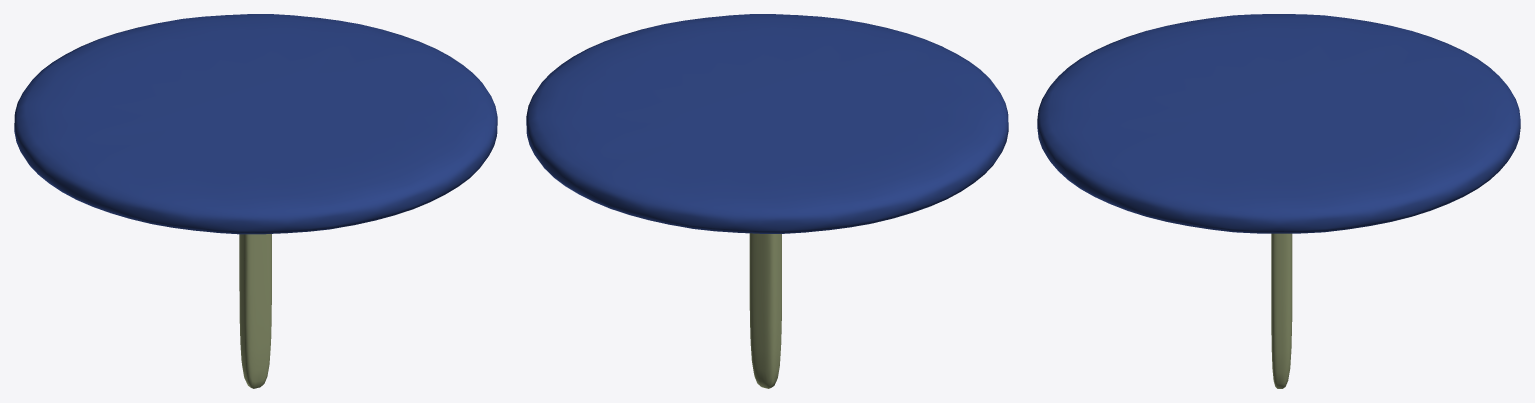
File: Mushrom 4.fbx
3 renders of one model, left to right at view 1: azimuth 30°, elevation 25°; view 2: azimuth 150°, elevation 25°; view 3: azimuth 270°, elevation 25°, orthographic.
Visible parts, largest first — view 1: Cylinder, Cube; view 2: Cylinder, Cube; view 3: Cylinder, Cube.
Boxes of the visible parts, <box> form: Cylinder: <box>14,14,497,234</box>; Cube: <box>239,234,271,388</box>; Cylinder: <box>526,14,1008,233</box>; Cube: <box>749,233,781,388</box>; Cylinder: <box>1037,14,1520,233</box>; Cube: <box>1271,233,1292,388</box>.
Bounding box in the file's own units: 293 × 188 × 293.
